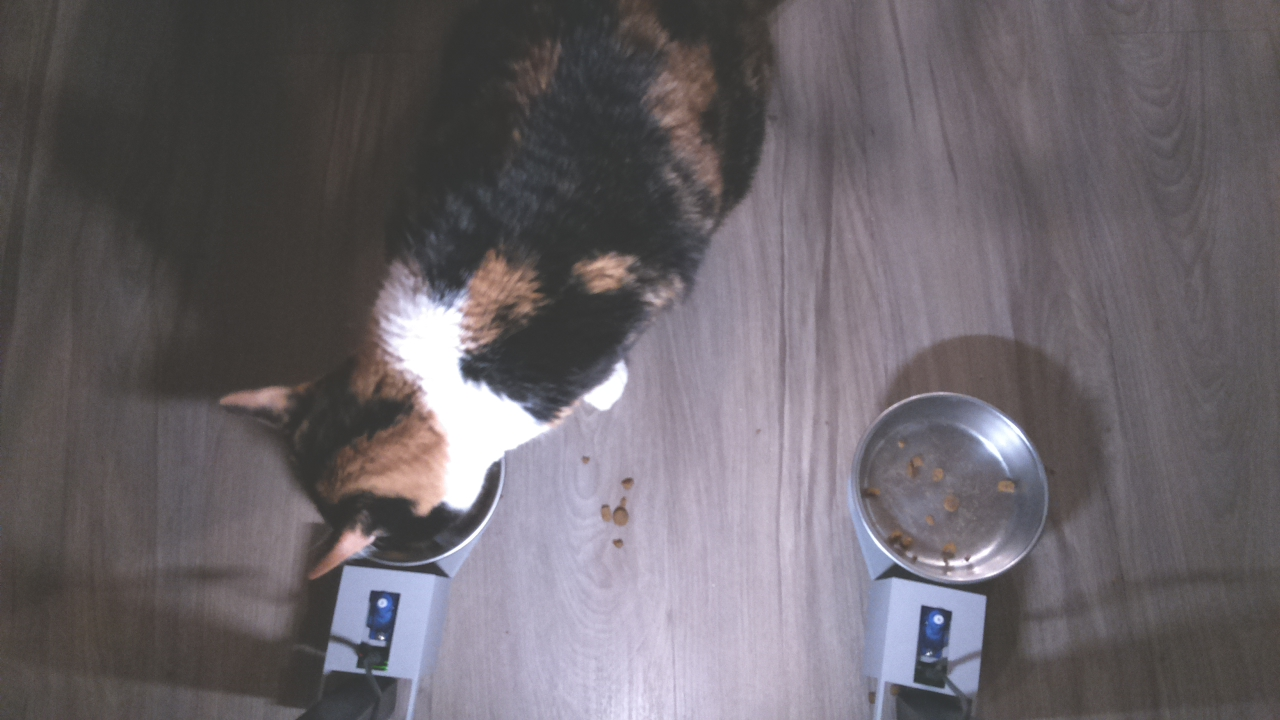bella_eating: (209, 282, 543, 578)
open_bowl: (847, 384, 1054, 589)
